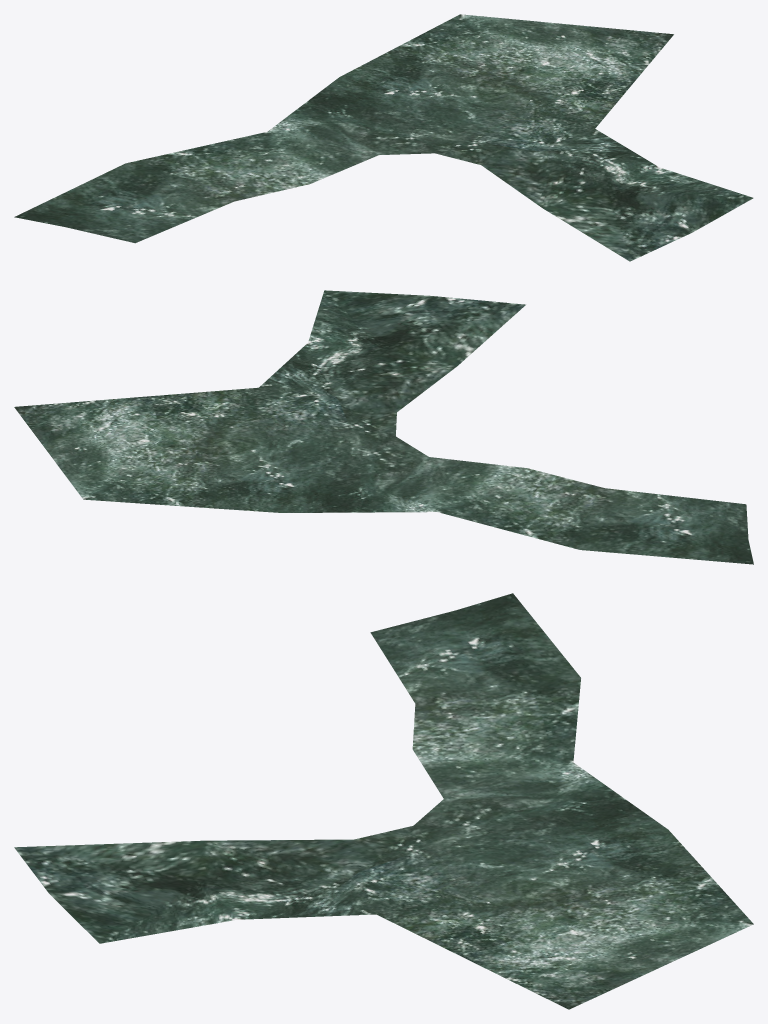
The picture shows the model from 3 angles, top to bottom: view 1: azimuth 30°, elevation 25°; view 2: azimuth 150°, elevation 25°; view 3: azimuth 270°, elevation 25°; orthographic projection. The views are drawn at different scales.
Parts seen in each view (by area): view 1: pPlane2; view 2: pPlane2; view 3: pPlane2.
Part boxes in pixels (left/top/right/bottom): pPlane2: left=14, top=14, right=753, bottom=261; pPlane2: left=14, top=290, right=753, bottom=564; pPlane2: left=14, top=593, right=753, bottom=1009.
Bounding box in the file's own units: 10192 × 0 × 7652.
